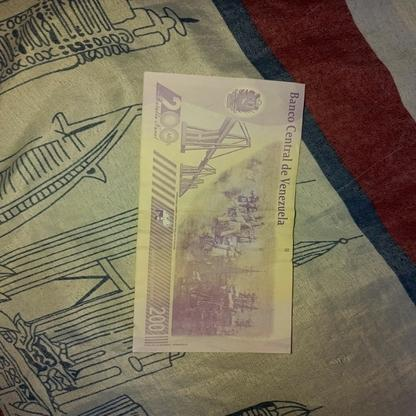two_hundred-back-vef: (132, 71, 304, 353)
